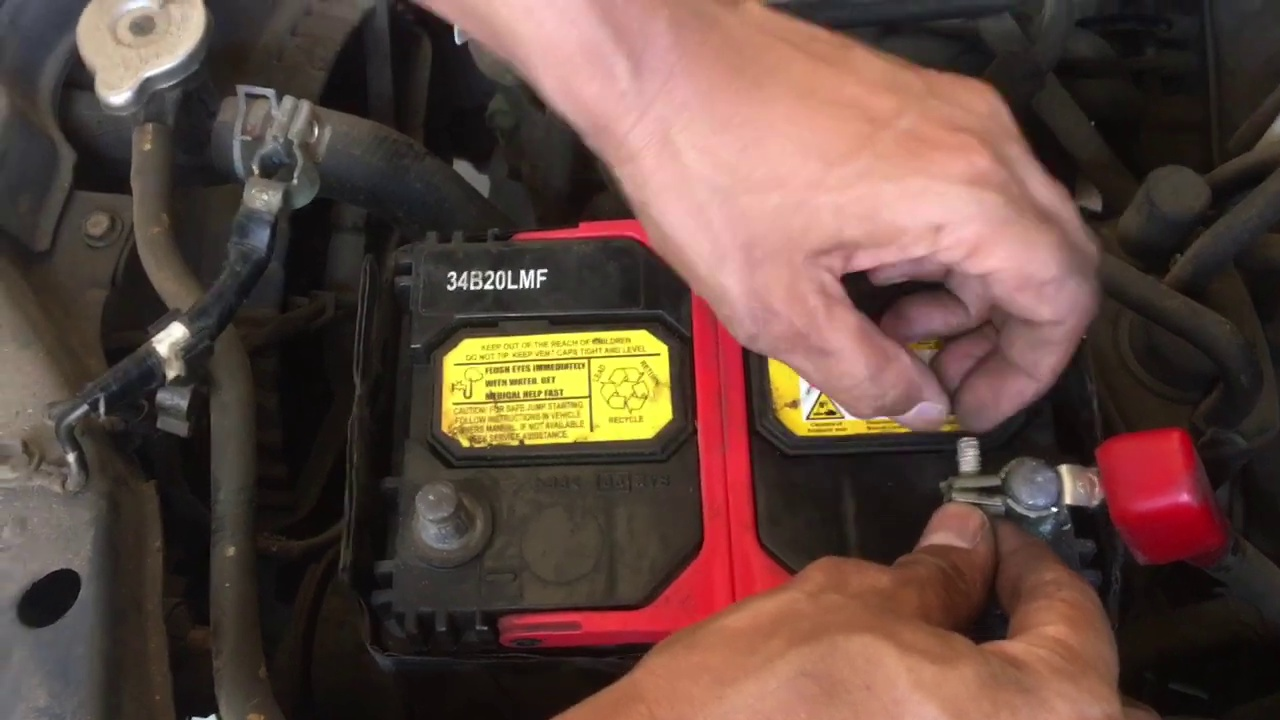battery: (355, 226, 1079, 611)
neg_disconnected: (374, 463, 507, 582)
pos_connected: (884, 403, 1246, 559)
pos_touched: (827, 234, 1220, 609)
